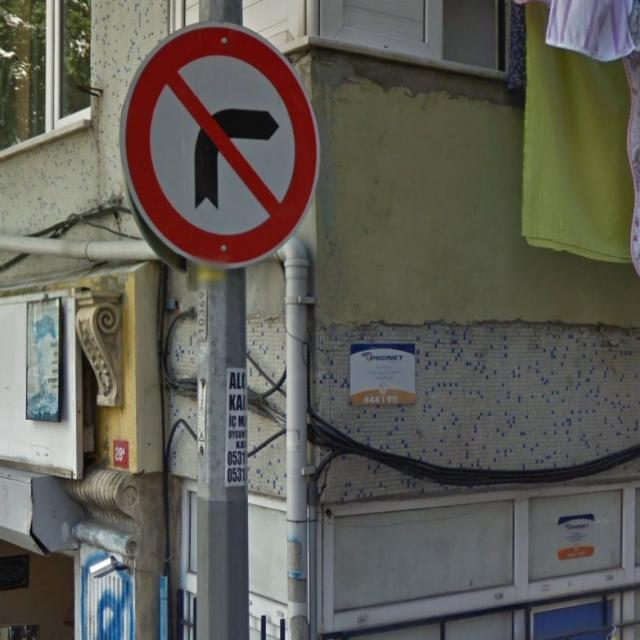sagadonulmez: (121, 21, 318, 266)
